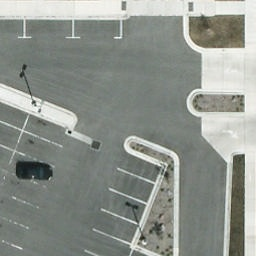car: (16, 163, 55, 180)
